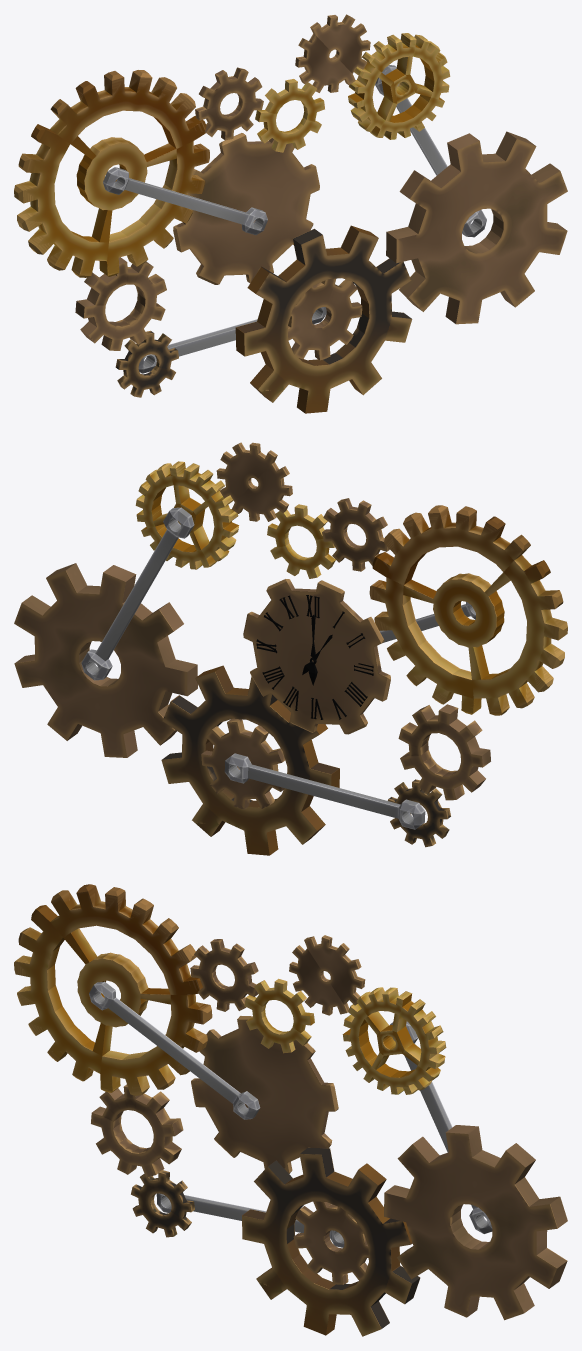
File: Clock_gear_DONE.fbx
3 renders of one model, top to bottom at view 1: azimuth 30°, elevation 25°; view 2: azimuth 150°, elevation 25°; view 3: azimuth 330°, elevation 25°, orthographic.
Parts seen in each view (by area): view 1: Circle, Circle.005, Circle.001, klocka, Circle.003, Cube.002, Circle.008, Circle.007, Circle.004, Circle.009, Circle.006, Circle.002; view 2: Circle.005, Circle, klocka, Circle.001, Cube.002, Circle.003, Circle.008, Circle.004, Circle.007, Circle.009, Circle.006, Circle.002 (+1 smaller); view 3: Circle, Circle.005, Circle.001, klocka, Circle.003, Cube.002, Circle.008, Circle.007, Circle.004, Circle.009, Circle.006, Circle.002.
Boxes of the visible parts, x1,y1,x2,y2 form: Circle: (386,131,567,324); Circle.005: (14,70,209,277); Circle.001: (235,225,412,413); klocka: (173,133,319,284); Circle.003: (348,33,450,139); Cube.002: (103,65,486,373); Circle.008: (75,257,166,350); Circle.007: (288,278,362,360); Circle.004: (295,14,370,92); Circle.009: (195,67,263,140); Circle.006: (255,79,324,152); Circle.002: (115,330,178,397); Circle.005: (369,505,567,715); Circle: (14,563,197,757); klocka: (243,579,390,734); Circle.001: (161,665,339,855); Cube.002: (81,507,475,829); Circle.003: (135,461,239,569); Circle.008: (398,704,490,800); Circle.004: (216,442,292,521); Circle.007: (201,718,285,809); Circle.009: (322,498,389,571); Circle.006: (267,504,335,578); Circle.002: (387,779,450,847); Circle: (384,1125,567,1320); Circle.005: (14,884,212,1095); Circle.001: (242,1147,420,1336); klocka: (191,1016,338,1173); Circle.003: (342,987,446,1094); Cube.002: (89,981,492,1247); Circle.008: (91,1084,183,1177); Circle.007: (293,1201,368,1284); Circle.004: (289,935,365,1015); Circle.009: (190,939,258,1011); Circle.006: (244,978,314,1053); Circle.002: (131,1170,194,1237).
Size of the model in its own units: 1853 by 1292 by 167.
